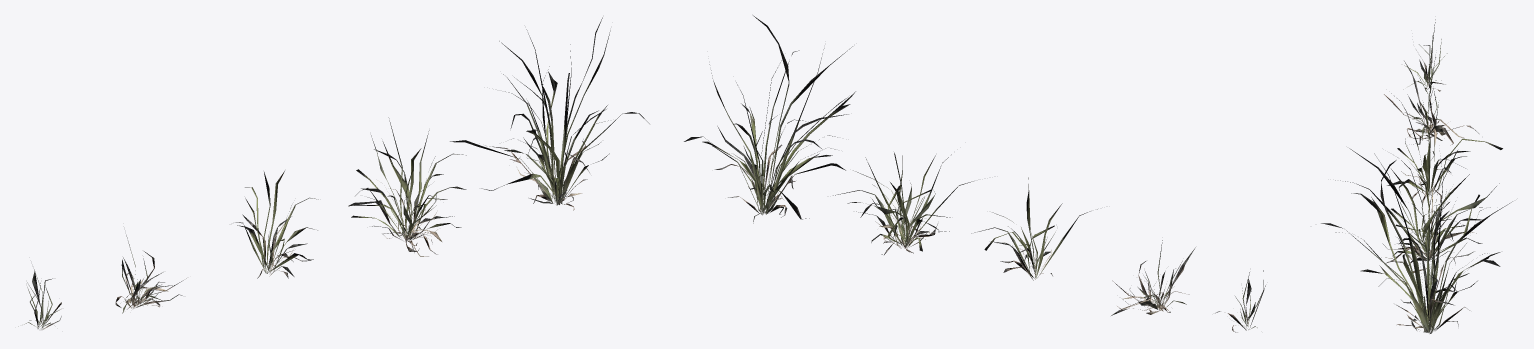
Rendered from grass_medium_02_lod2.glb.
The picture shows the model from 3 angles, left to right: view 1: azimuth 30°, elevation 25°; view 2: azimuth 150°, elevation 25°; view 3: azimuth 270°, elevation 25°; orthographic projection. The views are drawn at different scales.
Visible parts, largest first — view 1: grass_medium_02_a; view 2: grass_medium_02_a; view 3: grass_medium_02_a.
Part boxes in pixels (<box>): grass_medium_02_a: <box>18,17,649,329</box>; grass_medium_02_a: <box>684,15,1265,332</box>; grass_medium_02_a: <box>1321,19,1512,333</box>.
Size of the model in its own units: 1.29 by 0.4039 by 0.4319.
1 material, 1 textured.
